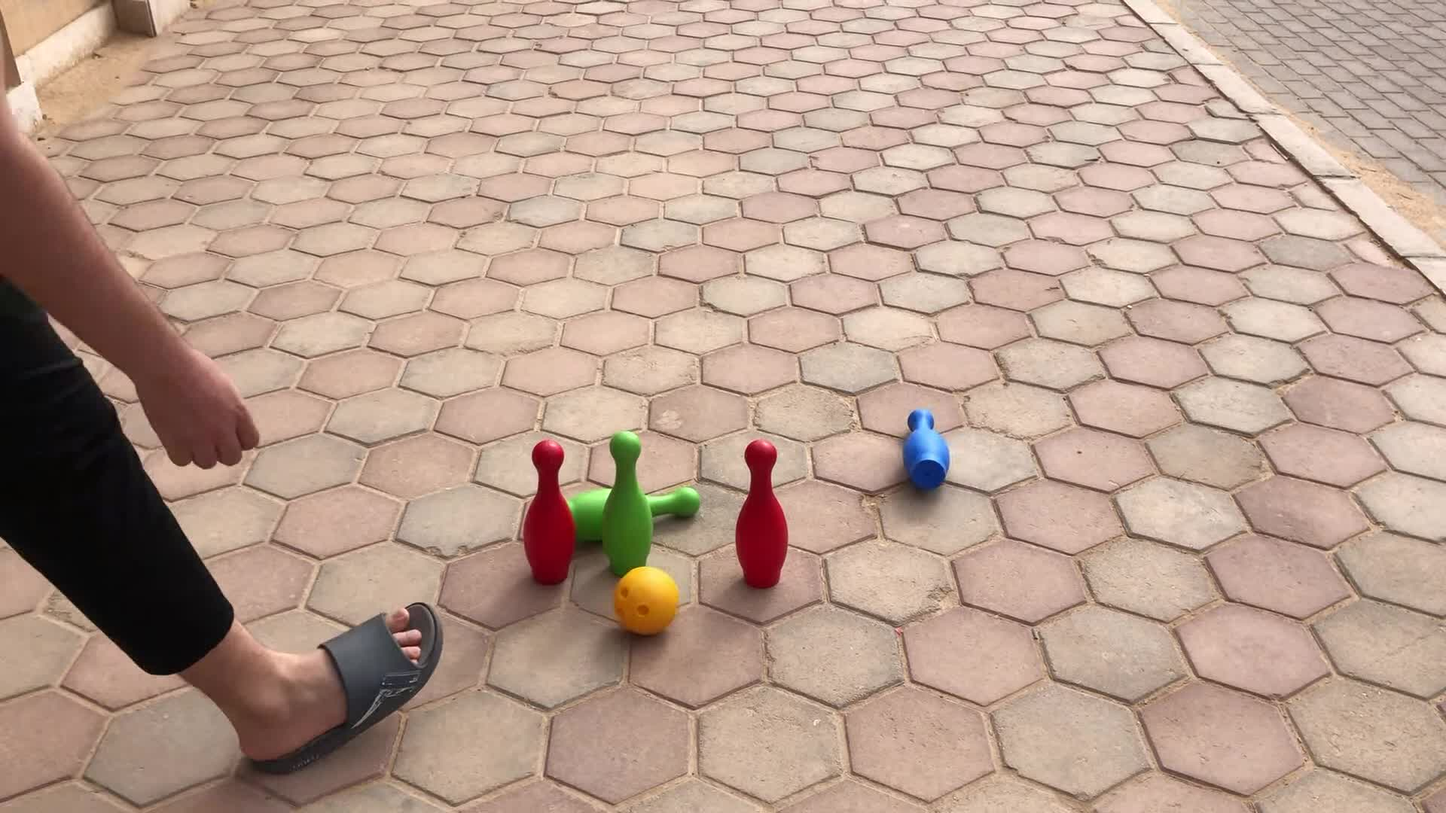bowling-pin: (737, 439, 787, 587), (524, 440, 575, 585), (603, 434, 654, 576), (905, 410, 950, 492), (567, 489, 609, 547)
